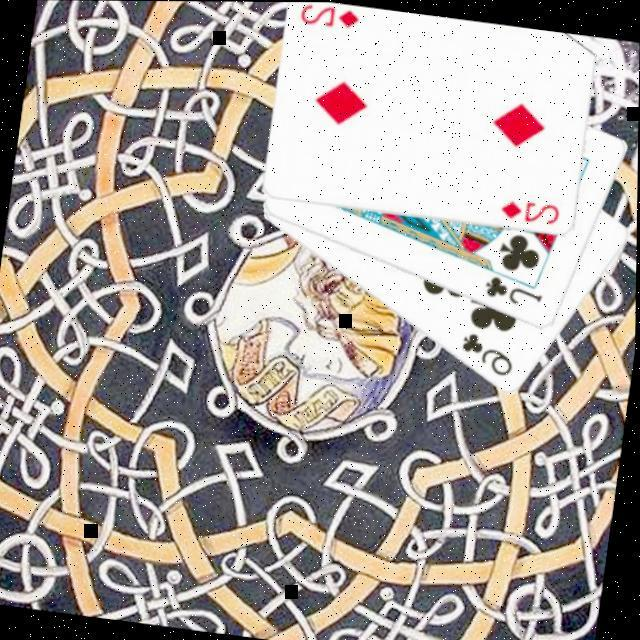2D: (498, 196, 566, 230), (297, 2, 364, 34)
9C: (457, 328, 523, 382)
JC: (482, 272, 550, 312)
